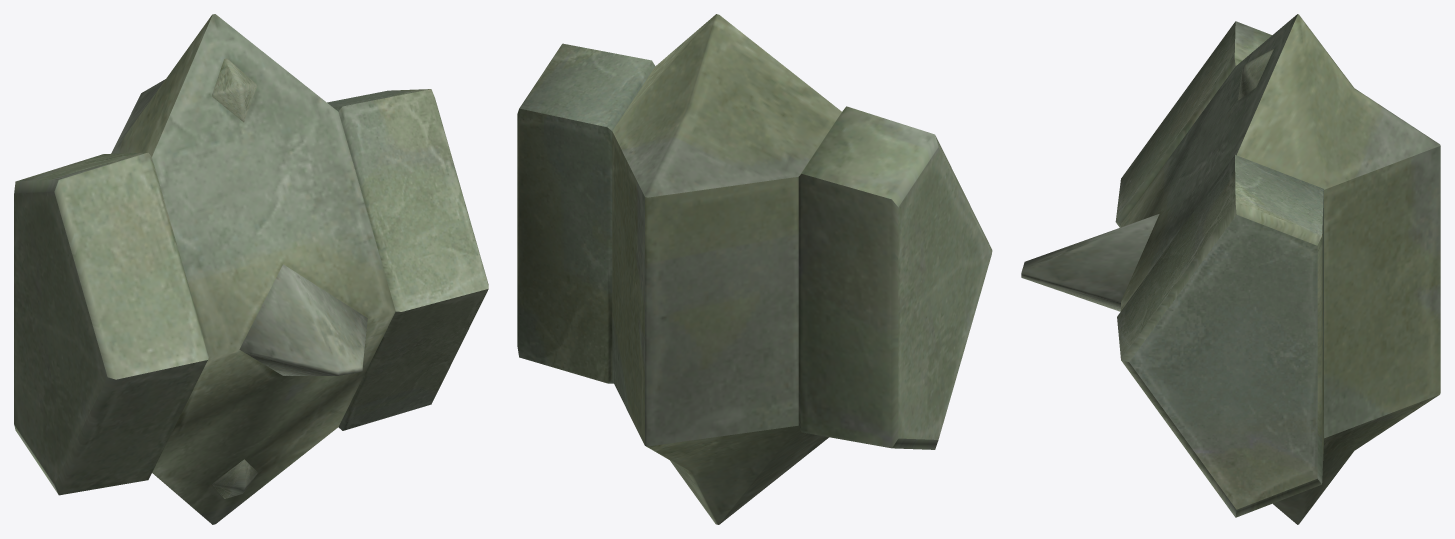
File: Ruins_Trim_Cap_4M_B.fbx
3 renders of one model, left to right at view 1: azimuth 30°, elevation 25°; view 2: azimuth 150°, elevation 25°; view 3: azimuth 270°, elevation 25°, orthographic.
Visible parts, largest first — view 1: Ruins_Trim_Cap_4M_B; view 2: Ruins_Trim_Cap_4M_B; view 3: Ruins_Trim_Cap_4M_B.
Part boxes in pixels (<box>): Ruins_Trim_Cap_4M_B: <box>14,14,488,524</box>; Ruins_Trim_Cap_4M_B: <box>517,14,992,524</box>; Ruins_Trim_Cap_4M_B: <box>1021,14,1440,524</box>.
Size of the model in its own units: 400 by 512 by 382.
